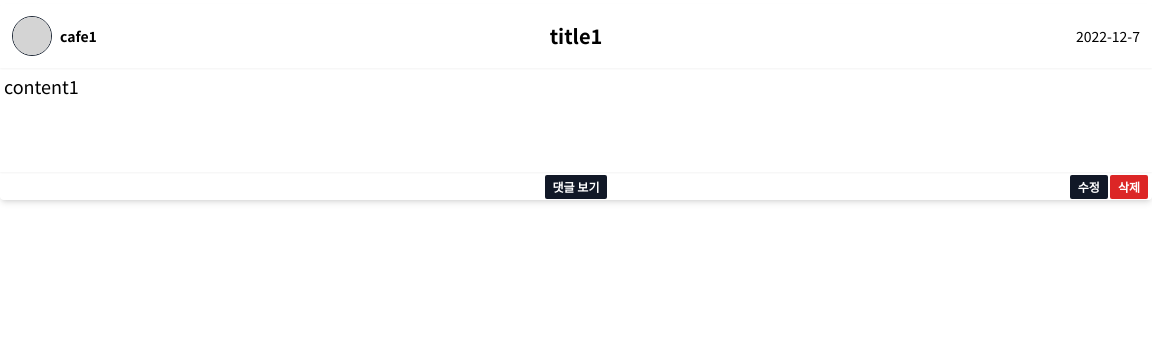
Scenario: article card › shows commnets list
The image size is (1152, 358).
Step 1. Click the button "댓글 보기" → click(576, 187), box [544,175,607,199]
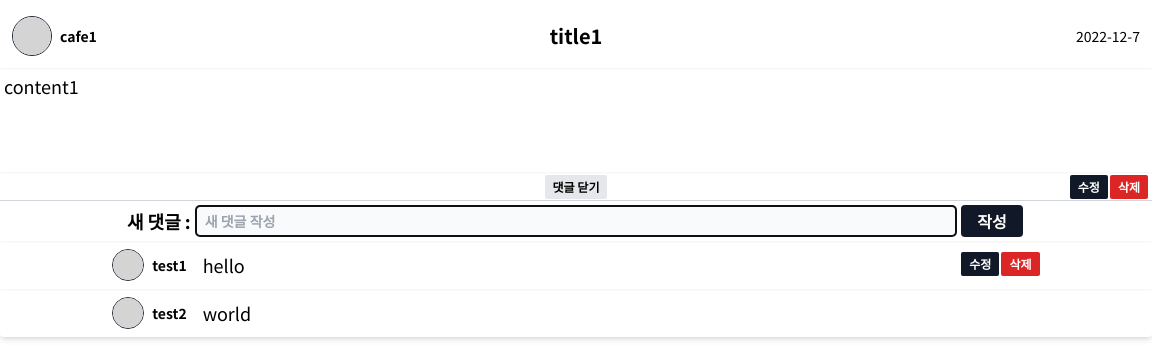
Step 2. Click the button "댓글 닫기" → click(576, 187), box [544,175,607,199]
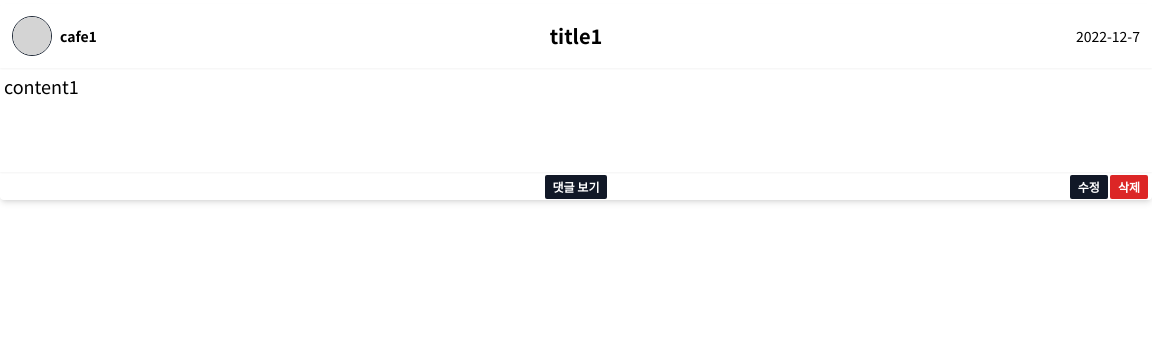
Expected: the text "hello" is gone
